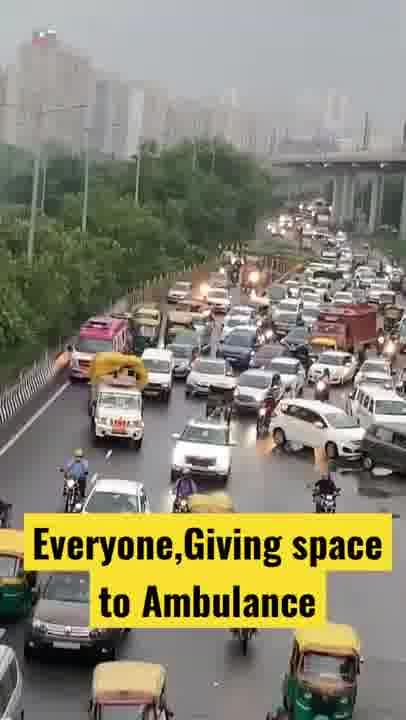AMBULANCE: (67, 314, 129, 353)
